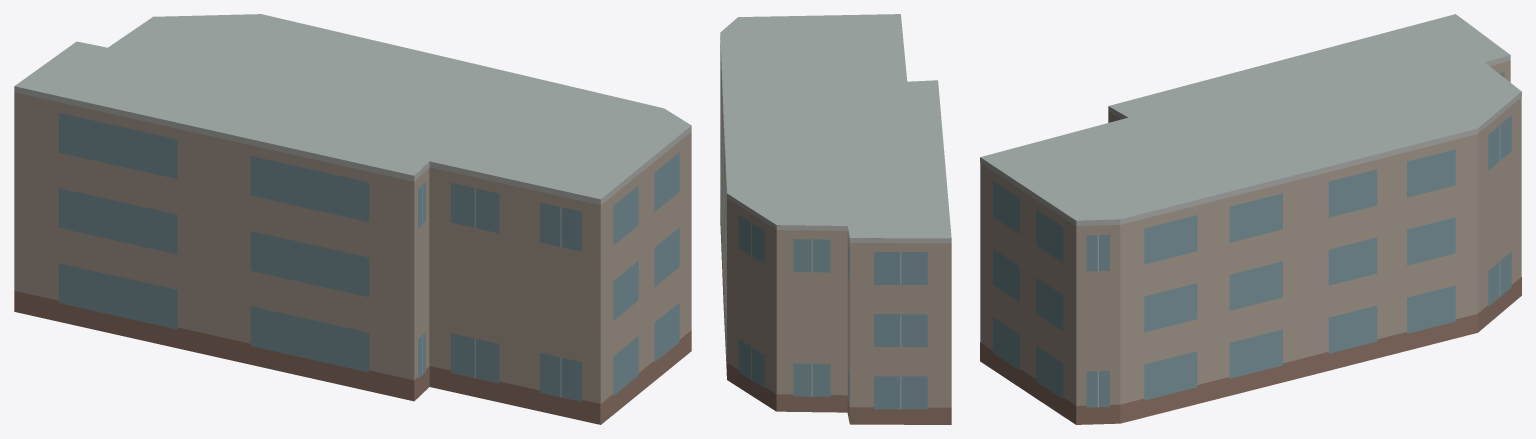
Rendered from survey-upis-32774099.glb.
The picture shows the model from 3 angles, left to right: view 1: azimuth 30°, elevation 25°; view 2: azimuth 150°, elevation 25°; view 3: azimuth 270°, elevation 25°; orthographic projection. The views are drawn at different scales.
Parts seen in each view (by area): view 1: survey-upis-32774099.tmp; view 2: survey-upis-32774099.tmp; view 3: survey-upis-32774099.tmp.
Part boxes in pixels (bbox=[...]): survey-upis-32774099.tmp: bbox=[14, 14, 691, 424]; survey-upis-32774099.tmp: bbox=[720, 14, 951, 424]; survey-upis-32774099.tmp: bbox=[980, 14, 1521, 424].
Size of the model in its own units: 19.87 by 9.15 by 22.
